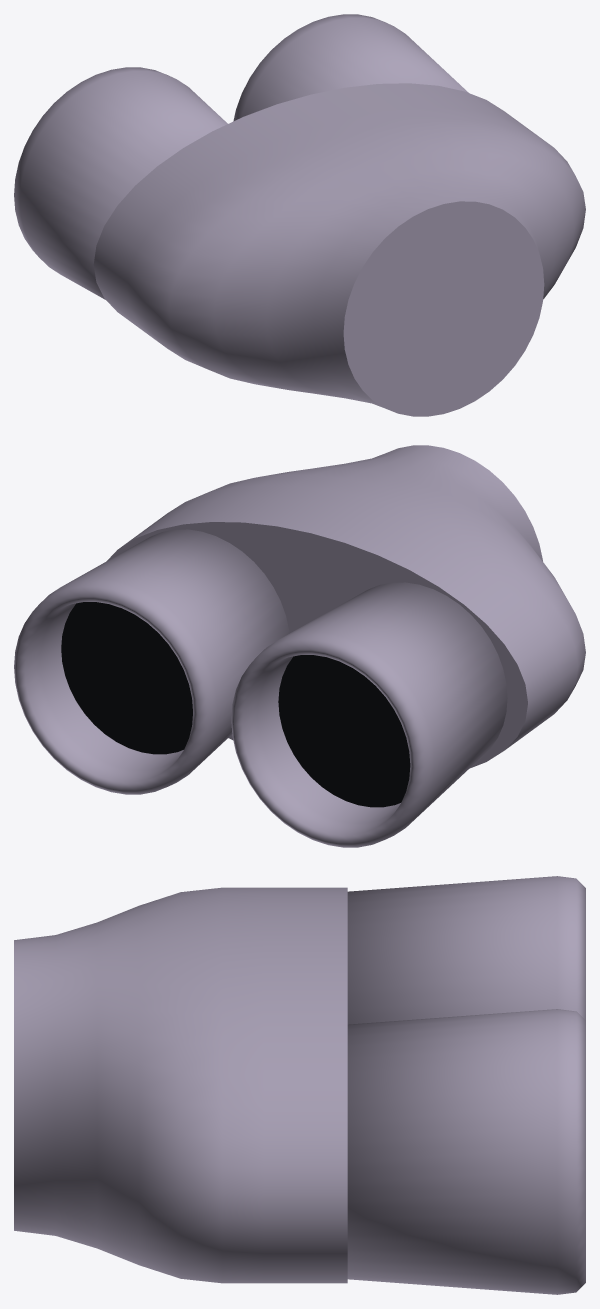
File: EX44_twin_tips.glb
3 renders of one model, top to bottom at view 1: azimuth 30°, elevation 25°; view 2: azimuth 150°, elevation 25°; view 3: azimuth 270°, elevation 25°, orthographic. The views are drawn at different scales.
Parts seen in each view (by area): view 1: MOD_NA_EX44_collector, MOD_NA_EX44_tip_R, MOD_NA_EX44_tip_L; view 2: MOD_NA_EX44_collector, MOD_NA_EX44_tip_R, MOD_NA_EX44_tip_L, MOD_NA_EX44_bore_R, MOD_NA_EX44_bore_L; view 3: MOD_NA_EX44_collector, MOD_NA_EX44_tip_L, MOD_NA_EX44_tip_R.
Part boxes in pixels (bbox=[...]): MOD_NA_EX44_collector: bbox=[93, 83, 585, 416]; MOD_NA_EX44_tip_R: bbox=[14, 67, 227, 299]; MOD_NA_EX44_tip_L: bbox=[233, 14, 468, 121]; MOD_NA_EX44_collector: bbox=[107, 445, 585, 768]; MOD_NA_EX44_tip_R: bbox=[231, 582, 507, 847]; MOD_NA_EX44_tip_L: bbox=[14, 529, 289, 794]; MOD_NA_EX44_bore_R: bbox=[278, 655, 410, 807]; MOD_NA_EX44_bore_L: bbox=[61, 602, 192, 754]; MOD_NA_EX44_collector: bbox=[14, 887, 347, 1283]; MOD_NA_EX44_tip_L: bbox=[347, 1009, 585, 1294]; MOD_NA_EX44_tip_R: bbox=[347, 876, 585, 1024].
Size of the model in its own units: 0.132 by 0.068 by 0.12.
